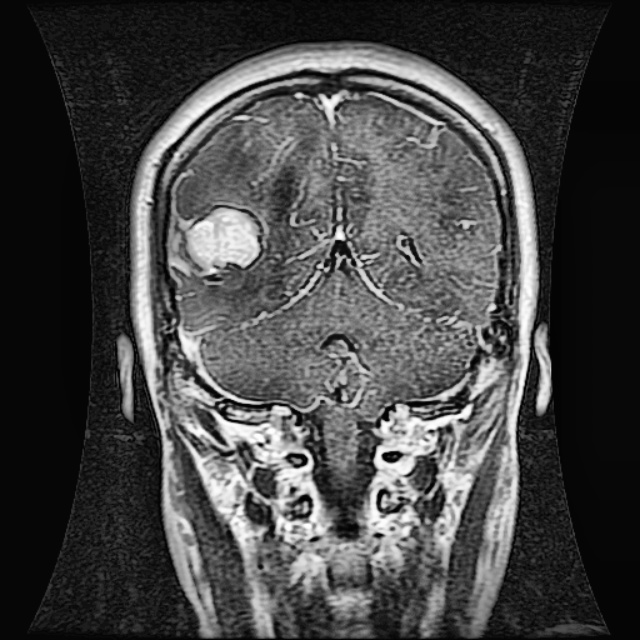Meningioma: (168, 202, 267, 284)
